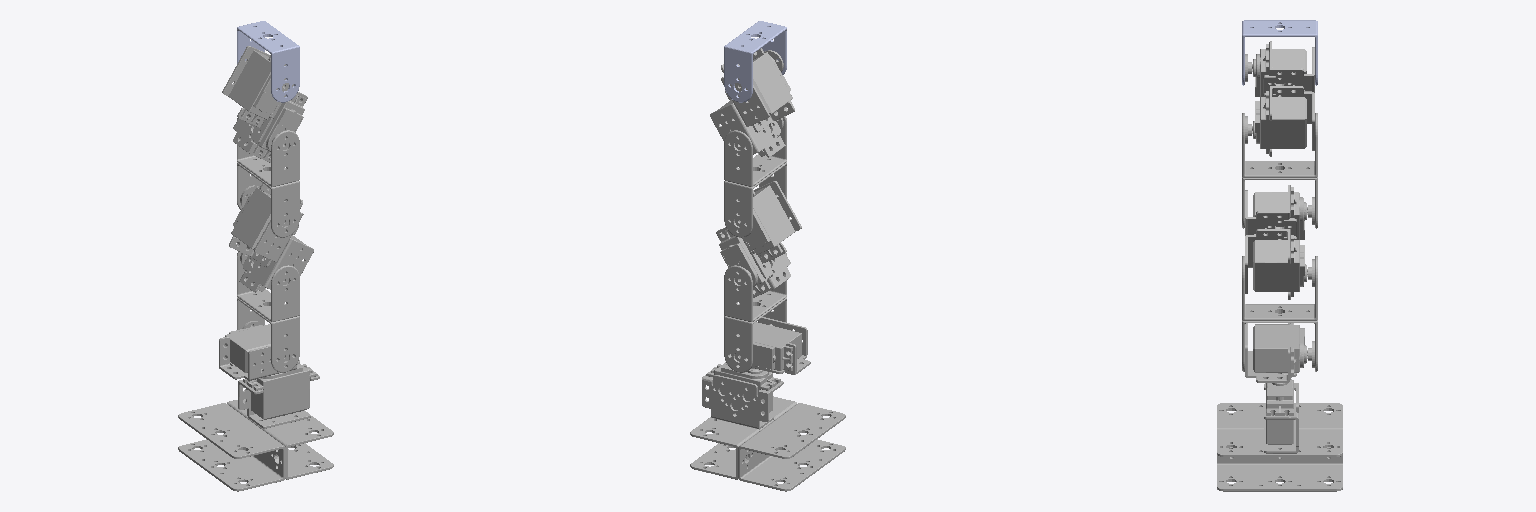
The robot description file, URDF, robot "servobot_description":
<robot
  name="servobot_description">
  <link
    name="base_link">
    <inertial>
      <origin
        xyz="-0.0011884 0.00055308 0.032694"
        rpy="0 0 0" />
      <mass
        value="0.072744" />
      <inertia
        ixx="6.2559E-05"
        ixy="-4.4148E-07"
        ixz="-1.3886E-05"
        iyy="6.8098E-05"
        iyz="-5.8879E-07"
        izz="5.8102E-05" />
    </inertial>
    <visual>
      <origin
        xyz="0 0 0"
        rpy="0 0 0" />
      <geometry>
        <mesh
          filename="package://servobot_description/meshes/base_link.STL" />
      </geometry>
      <material
        name="">
        <color
          rgba="0.75294 0.75294 0.75294 1" />
      </material>
    </visual>
    <collision>
      <origin
        xyz="0 0 0"
        rpy="0 0 0" />
      <geometry>
        <mesh
          filename="package://servobot_description/meshes/base_link.STL" />
      </geometry>
    </collision>
  </link>
  <link
    name="link0">
    <inertial>
      <origin
        xyz="-0.0101720623867661 -0.00205290963860256 0.012361658061321"
        rpy="0 0 0" />
      <mass
        value="0.0353436334303481" />
      <inertia
        ixx="6.46825031271082E-06"
        ixy="-2.72245592681754E-07"
        ixz="-1.55883494608516E-08"
        iyy="7.15404017730778E-06"
        iyz="-1.85817896870057E-07"
        izz="1.0660821619004E-05" />
    </inertial>
    <visual>
      <origin
        xyz="0 0 0"
        rpy="0 0 0" />
      <geometry>
        <mesh
          filename="package://servobot_description/meshes/link0.STL" />
      </geometry>
      <material
        name="">
        <color
          rgba="0.752941176470588 0.752941176470588 0.752941176470588 1" />
      </material>
    </visual>
    <collision>
      <origin
        xyz="0 0 0"
        rpy="0 0 0" />
      <geometry>
        <mesh
          filename="package://servobot_description/meshes/link0.STL" />
      </geometry>
    </collision>
  </link>
  <joint
    name="joint0"
    type="revolute">
    <origin
      xyz="0 0 0.079"
      rpy="0 6.5995E-17 0" />
    <parent
      link="base_link" />
    <child
      link="link0" />
    <axis
      xyz="0 0 1" />
    <limit
      lower="-1.57"
      upper="1.57"
      effort="2"
      velocity="2" />
  </joint>
  <link
    name="link1">
    <inertial>
      <origin
        xyz="0.00114052336371454 -0.0235000000018582 0.0329742722703748"
        rpy="0 0 0" />
      <mass
        value="0.0120474627151407" />
      <inertia
        ixx="1.02107315156678E-05"
        ixy="3.1471283661672E-21"
        ixz="-5.79802302009495E-22"
        iyy="4.76556246275553E-06"
        iyz="1.41077143719453E-21"
        izz="6.69555625904619E-06" />
    </inertial>
    <visual>
      <origin
        xyz="0 0 0"
        rpy="0 0 0" />
      <geometry>
        <mesh
          filename="package://servobot_description/meshes/link1.STL" />
      </geometry>
      <material
        name="">
        <color
          rgba="0.752941176470588 0.752941176470588 0.752941176470588 1" />
      </material>
    </visual>
    <collision>
      <origin
        xyz="0 0 0"
        rpy="0 0 0" />
      <geometry>
        <mesh
          filename="package://servobot_description/meshes/link1.STL" />
      </geometry>
    </collision>
  </link>
  <joint
    name="joint1"
    type="revolute">
    <origin
      xyz="-0.0017905 0.0235 0.012526"
      rpy="0 -2.8284E-17 0" />
    <parent
      link="link0" />
    <child
      link="link1" />
    <axis
      xyz="0 -1 0" />
    <limit
      lower="-1.57"
      upper="1.57"
      effort="2"
      velocity="2" />
  </joint>
  <link
    name="link2">
    <inertial>
      <origin
        xyz="-6.50900167098456E-12 -0.0270528745593164 0.0244207390899418"
        rpy="0 0 0" />
      <mass
        value="0.0706874109013024" />
      <inertia
        ixx="3.65612071927322E-05"
        ixy="-8.05347051906259E-15"
        ixz="9.86248110292613E-07"
        iyy="3.33976734616283E-05"
        iyz="-5.4605394972078E-14"
        izz="1.67866182102254E-05" />
    </inertial>
    <visual>
      <origin
        xyz="0 0 0"
        rpy="0 0 0" />
      <geometry>
        <mesh
          filename="package://servobot_description/meshes/link2.STL" />
      </geometry>
      <material
        name="">
        <color
          rgba="0.752941176470588 0.752941176470588 0.752941176470588 1" />
      </material>
    </visual>
    <collision>
      <origin
        xyz="0 0 0"
        rpy="0 0 0" />
      <geometry>
        <mesh
          filename="package://servobot_description/meshes/link2.STL" />
      </geometry>
    </collision>
  </link>
  <joint
    name="joint2"
    type="revolute">
    <origin
      xyz="0.0011405 0.0015 0.064974"
      rpy="0 0 0" />
    <parent
      link="link1" />
    <child
      link="link2" />
    <axis
      xyz="0 -1 0" />
    <limit
      lower="-1.57"
      upper="1.57"
      effort="2"
      velocity="2" />
  </joint>
  <link
    name="link3">
    <inertial>
      <origin
        xyz="2.77555756156289E-17 -0.025 0.032"
        rpy="0 0 0" />
      <mass
        value="0.0120474627151407" />
      <inertia
        ixx="1.02107315156678E-05"
        ixy="6.31492620960283E-21"
        ixz="4.15309456082725E-22"
        iyy="4.76556246275553E-06"
        iyz="1.28684174431287E-21"
        izz="6.69555625904619E-06" />
    </inertial>
    <visual>
      <origin
        xyz="0 0 0"
        rpy="0 0 0" />
      <geometry>
        <mesh
          filename="package://servobot_description/meshes/link3.STL" />
      </geometry>
      <material
        name="">
        <color
          rgba="0.752941176470588 0.752941176470588 0.752941176470588 1" />
      </material>
    </visual>
    <collision>
      <origin
        xyz="0 0 0"
        rpy="0 0 0" />
      <geometry>
        <mesh
          filename="package://servobot_description/meshes/link3.STL" />
      </geometry>
    </collision>
  </link>
  <joint
    name="joint3"
    type="revolute">
    <origin
      xyz="0 0 0.048841"
      rpy="0 0 0" />
    <parent
      link="link2" />
    <child
      link="link3" />
    <axis
      xyz="0 -1 0" />
    <limit
      lower="-1.57"
      upper="1.57"
      effort="2"
      velocity="2" />
  </joint>
  <link
    name="link4">
    <inertial>
      <origin
        xyz="-4.16333634234434E-17 0.0270528745360344 0.0244207391370531"
        rpy="0 0 0" />
      <mass
        value="0.070687410752001" />
      <inertia
        ixx="3.65722048848125E-05"
        ixy="1.99052742604761E-20"
        ixz="9.79268936473673E-07"
        iyy="3.3413080447352E-05"
        iyz="1.64112633530521E-20"
        izz="1.67910274372389E-05" />
    </inertial>
    <visual>
      <origin
        xyz="0 0 0"
        rpy="0 0 0" />
      <geometry>
        <mesh
          filename="package://servobot_description/meshes/link4.STL" />
      </geometry>
      <material
        name="">
        <color
          rgba="0.752941176470588 0.752941176470588 0.752941176470588 1" />
      </material>
    </visual>
    <collision>
      <origin
        xyz="0 0 0"
        rpy="0 0 0" />
      <geometry>
        <mesh
          filename="package://servobot_description/meshes/link4.STL" />
      </geometry>
    </collision>
  </link>
  <joint
    name="joint4"
    type="revolute">
    <origin
      xyz="0 -0.05 0.064"
      rpy="0 0 0" />
    <parent
      link="link3" />
    <child
      link="link4" />
    <axis
      xyz="0 -1 0" />
    <limit
      lower="-1.57"
      upper="1.57"
      effort="2"
      velocity="2" />
  </joint>
  <link
    name="link5">
    <inertial>
      <origin
        xyz="-0.00144236036078239 -0.0235000000018581 0.0195477489741051"
        rpy="0 0 0" />
      <mass
        value="0.00602373135757036" />
      <inertia
        ixx="4.1085324849624E-06"
        ixy="4.29879362068518E-21"
        ixz="-1.17932938173794E-21"
        iyy="1.38594795850627E-06"
        iyz="7.24403992241584E-21"
        izz="3.3477781295231E-06" />
    </inertial>
    <visual>
      <origin
        xyz="0 0 0"
        rpy="0 0 0" />
      <geometry>
        <mesh
          filename="package://servobot_description/meshes/link5.STL" />
      </geometry>
      <material
        name="">
        <color
          rgba="0.792156862745098 0.819607843137255 0.933333333333333 1" />
      </material>
    </visual>
    <collision>
      <origin
        xyz="0 0 0"
        rpy="0 0 0" />
      <geometry>
        <mesh
          filename="package://servobot_description/meshes/link5.STL" />
      </geometry>
    </collision>
  </link>
  <joint
    name="joint5"
    type="revolute">
    <origin
      xyz="-0.0014424 0.0015 0.04843"
      rpy="0 -3.7711E-17 3.1416" />
    <parent
      link="link4" />
    <child
      link="link5" />
    <axis
      xyz="0 1 0" />
    <limit
      lower="-1.57"
      upper="1.57"
      effort="2"
      velocity="2" />
  </joint>
</robot>

--- What the picture shows (computed from the rendered views, not written in the file) ---
The picture shows the robot from 3 angles, left to right: view 1: azimuth 30°, elevation 25°; view 2: azimuth 150°, elevation 25°; view 3: azimuth 270°, elevation 25°; orthographic projection.
Model servobot_description with 7 links and 6 joints (6 revolute), rooted at base_link, posed all joints at 0.
Links seen in each view (by area): view 1: base_link, link4, link2, link1, link3, link0, link5; view 2: base_link, link2, link4, link3, link1, link5, link0; view 3: base_link, link2, link4, link0, link1, link3, link5.
Boxes of the visible links, x1=… form: base_link: x1=178, y1=364, x2=333, y2=491; link4: x1=222, y1=46, x2=307, y2=162; link2: x1=229, y1=183, x2=313, y2=292; link1: x1=237, y1=251, x2=299, y2=372; link3: x1=237, y1=118, x2=299, y2=237; link0: x1=219, y1=321, x2=299, y2=380; link5: x1=237, y1=21, x2=299, y2=102; base_link: x1=690, y1=362, x2=845, y2=491; link2: x1=716, y1=181, x2=801, y2=297; link4: x1=710, y1=48, x2=794, y2=157; link3: x1=724, y1=116, x2=786, y2=237; link1: x1=724, y1=253, x2=786, y2=372; link5: x1=724, y1=21, x2=786, y2=102; link0: x1=730, y1=317, x2=810, y2=374; base_link: x1=1217, y1=377, x2=1342, y2=491; link2: x1=1245, y1=185, x2=1314, y2=299; link4: x1=1245, y1=41, x2=1314, y2=156; link0: x1=1245, y1=323, x2=1314, y2=382; link1: x1=1242, y1=256, x2=1317, y2=371; link3: x1=1242, y1=113, x2=1317, y2=228; link5: x1=1242, y1=20, x2=1317, y2=85.
Size in the robot's own frame: 0.0941 by 0.09 by 0.3502 metres.
7 mesh visuals loaded from 7 distinct referenced files (7 binary STL).